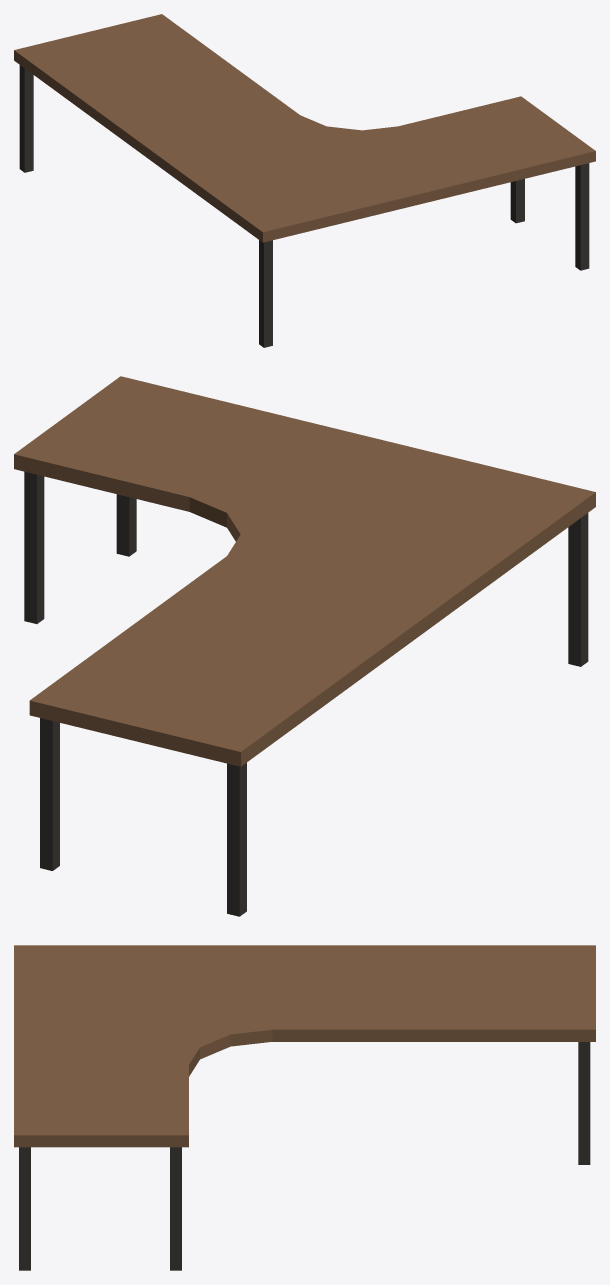
The model's file is SM_Desk_04.glb.
3 views of the same model, one above another, from view 1: azimuth 30°, elevation 25°; view 2: azimuth 150°, elevation 25°; view 3: azimuth 270°, elevation 25° (orthographic). The views are drawn at different scales.
Parts seen in each view (by area): view 1: SM_Desk_04; view 2: SM_Desk_04; view 3: SM_Desk_04.
Boxes of the visible parts, x1,y1,x2,y2 form: SM_Desk_04: (14, 14, 595, 347); SM_Desk_04: (14, 376, 595, 916); SM_Desk_04: (14, 945, 595, 1270).
Size of the model in its own units: 2.39 by 0.8086 by 3.09.
1 material, 1 textured.
